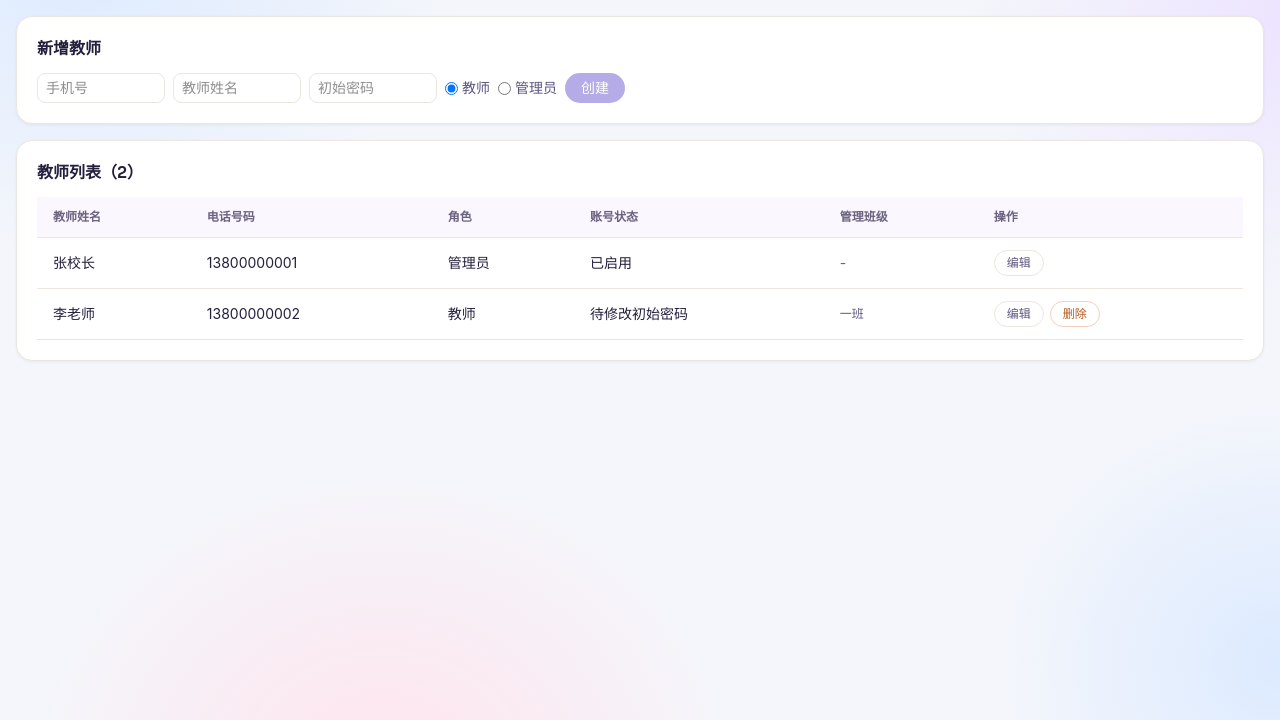
Test: AdminTeachersModule › shows an error and keeps the list unchanged when deletion fails
The image size is (1280, 720).
Expected: the text "13800000001" is shown, [191, 238, 432, 288]
What coordinates should you click on to do the following:
click the button with aria-label "删除教师李老师"
I would click on:
 (1075, 314)
Its box is [1050, 301, 1100, 327].
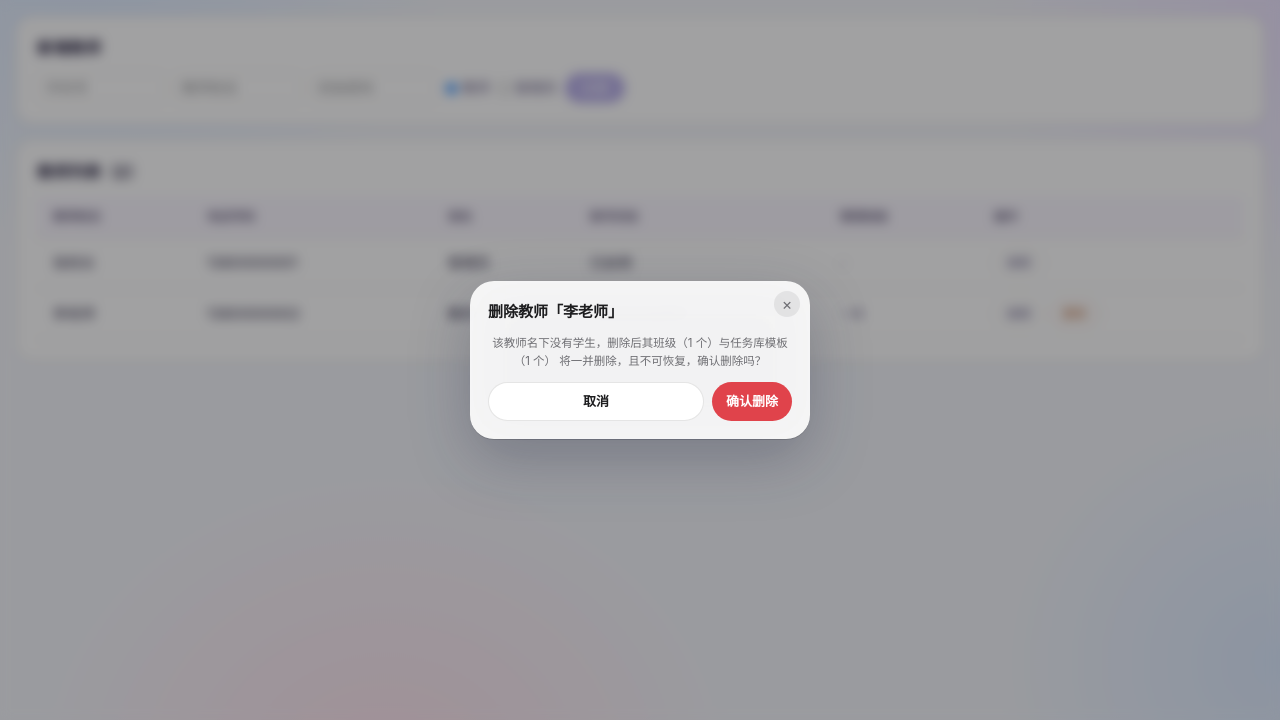
Now the text "该教师名下没有学生，删除后其班级（1 个）与任务库模板（1 个） 将一并删除，且不可恢复，确认删除吗？" is shown, box [488, 335, 792, 370]
What coordinates should you click on to do the following:
click the button "确认删除"
I would click on:
 (752, 402)
Its box is [712, 382, 792, 421].
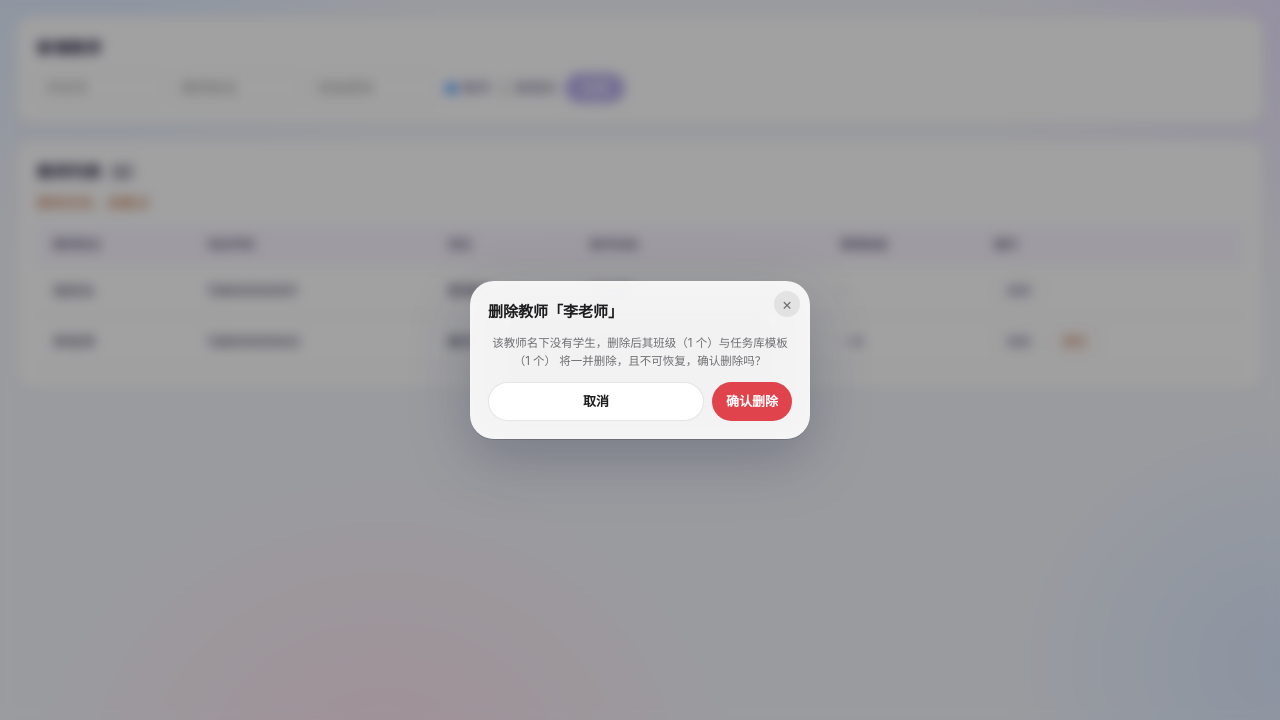
Now the text "删除失败，请重试" is shown, box [37, 194, 149, 211]
